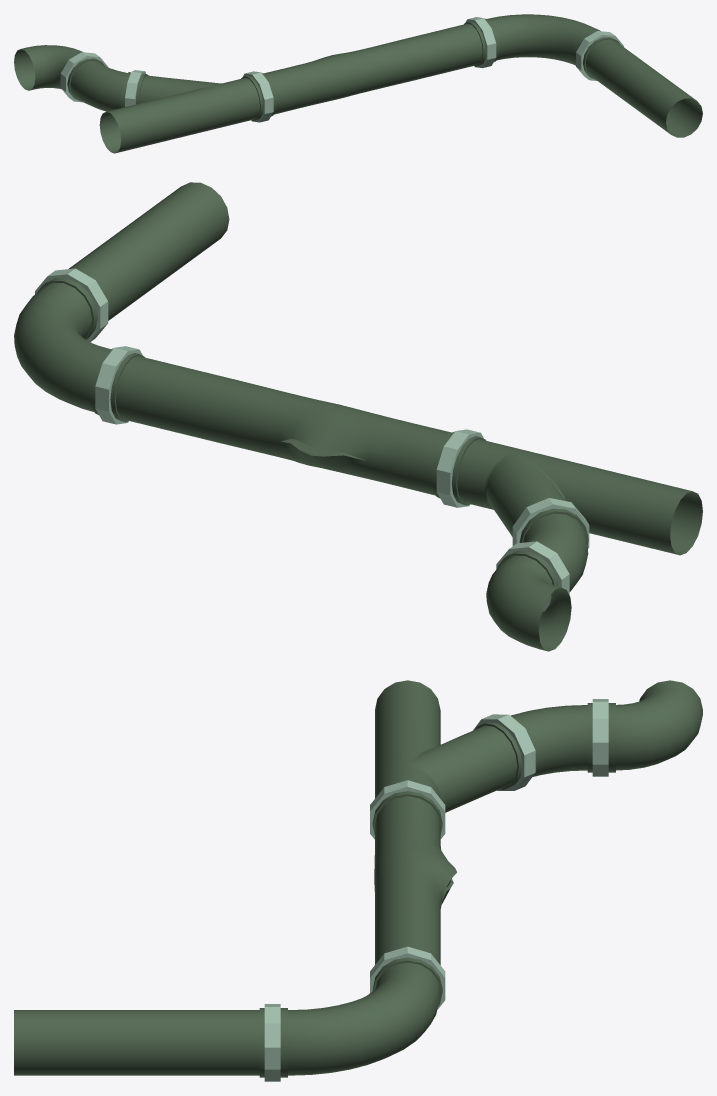
Rendered from PipeComplexLarge_A1_12.fbx.
3 renders of one model, top to bottom at view 1: azimuth 30°, elevation 25°; view 2: azimuth 150°, elevation 25°; view 3: azimuth 270°, elevation 25°, orthographic. The views are drawn at different scales.
Visible parts, largest first — view 1: PipeComplexLarge_A1_12.001; view 2: PipeComplexLarge_A1_12.001; view 3: PipeComplexLarge_A1_12.001.
Boxes of the visible parts, x1,y1,x2,y2 form: PipeComplexLarge_A1_12.001: [14, 14, 702, 153]; PipeComplexLarge_A1_12.001: [14, 182, 702, 651]; PipeComplexLarge_A1_12.001: [14, 680, 702, 1081].
Bounding box in the file's own units: 2.51 × 0.2411 × 2.1.
